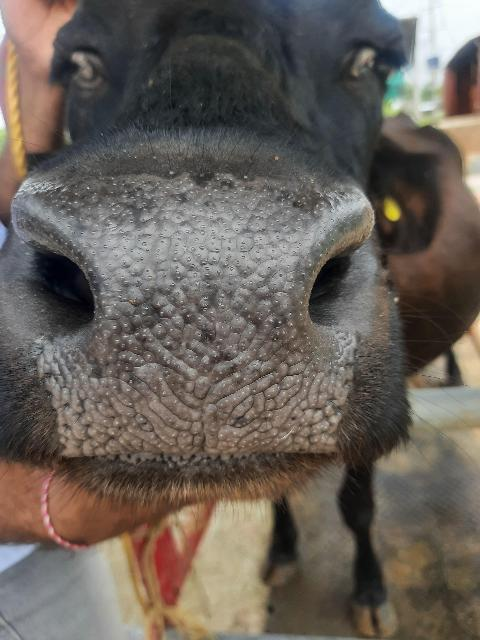Muzzle: (86, 194, 313, 451)
